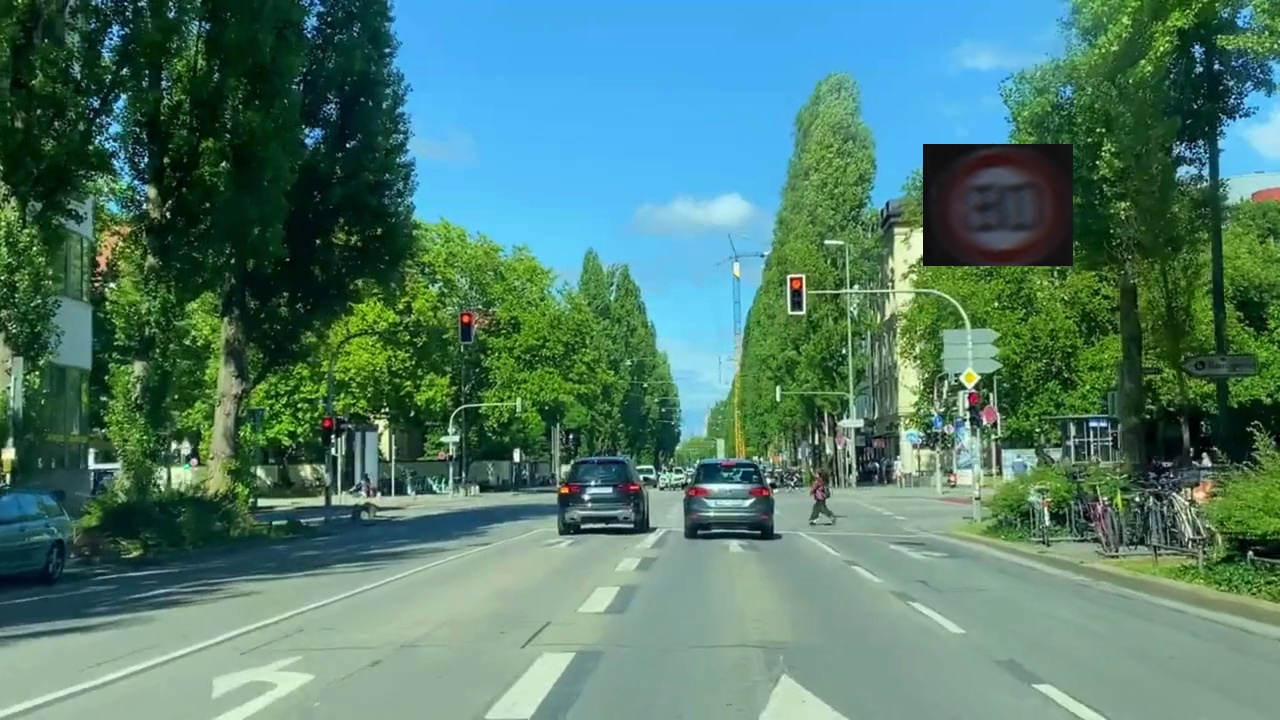Speed 80: (923, 144, 1073, 266)
